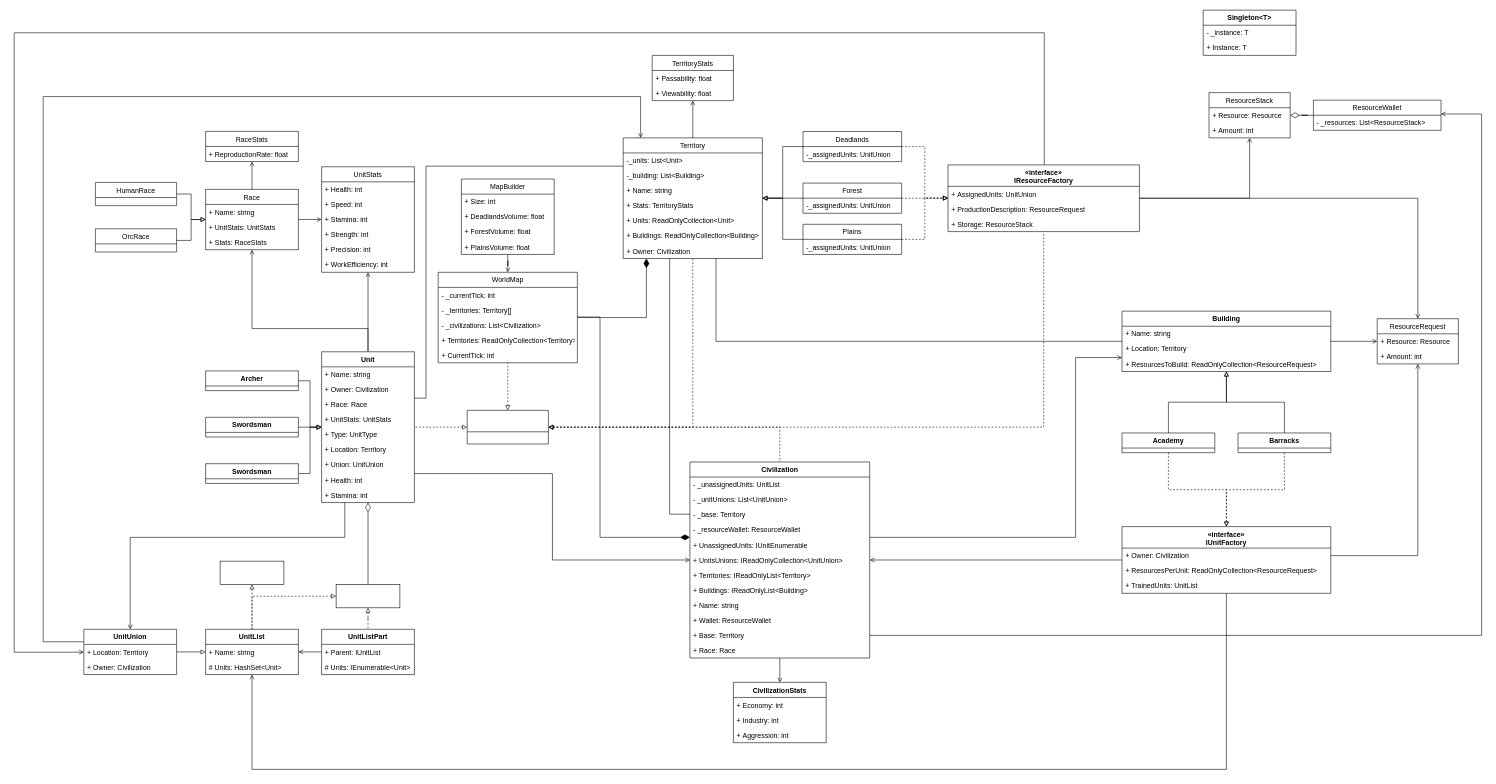
Some shapes in this 1496 by 784 pixel diagram are drawn without their labels. Each missing label, with the centre of its shape:
"«interface» ITickable" belongs at point 507,427.
"«interface» IUnitEnumebrable" belongs at point 368,596.
"«interface» IUnitList" belongs at point 252,572.
